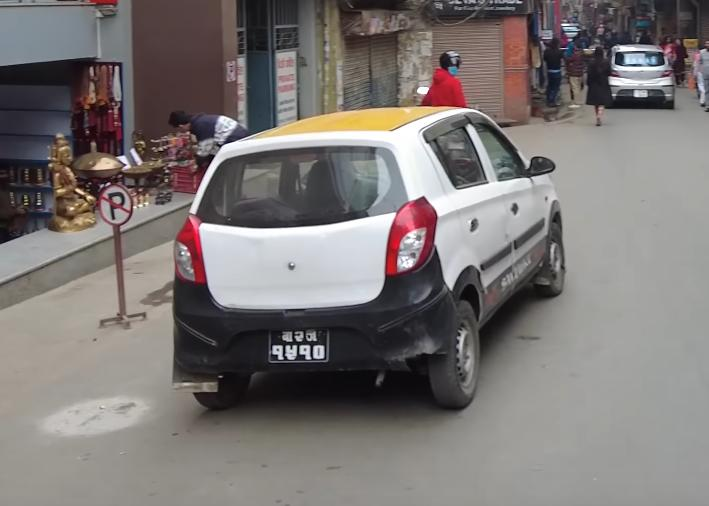car: (602, 44, 680, 110)
taxi: (159, 95, 585, 415)
